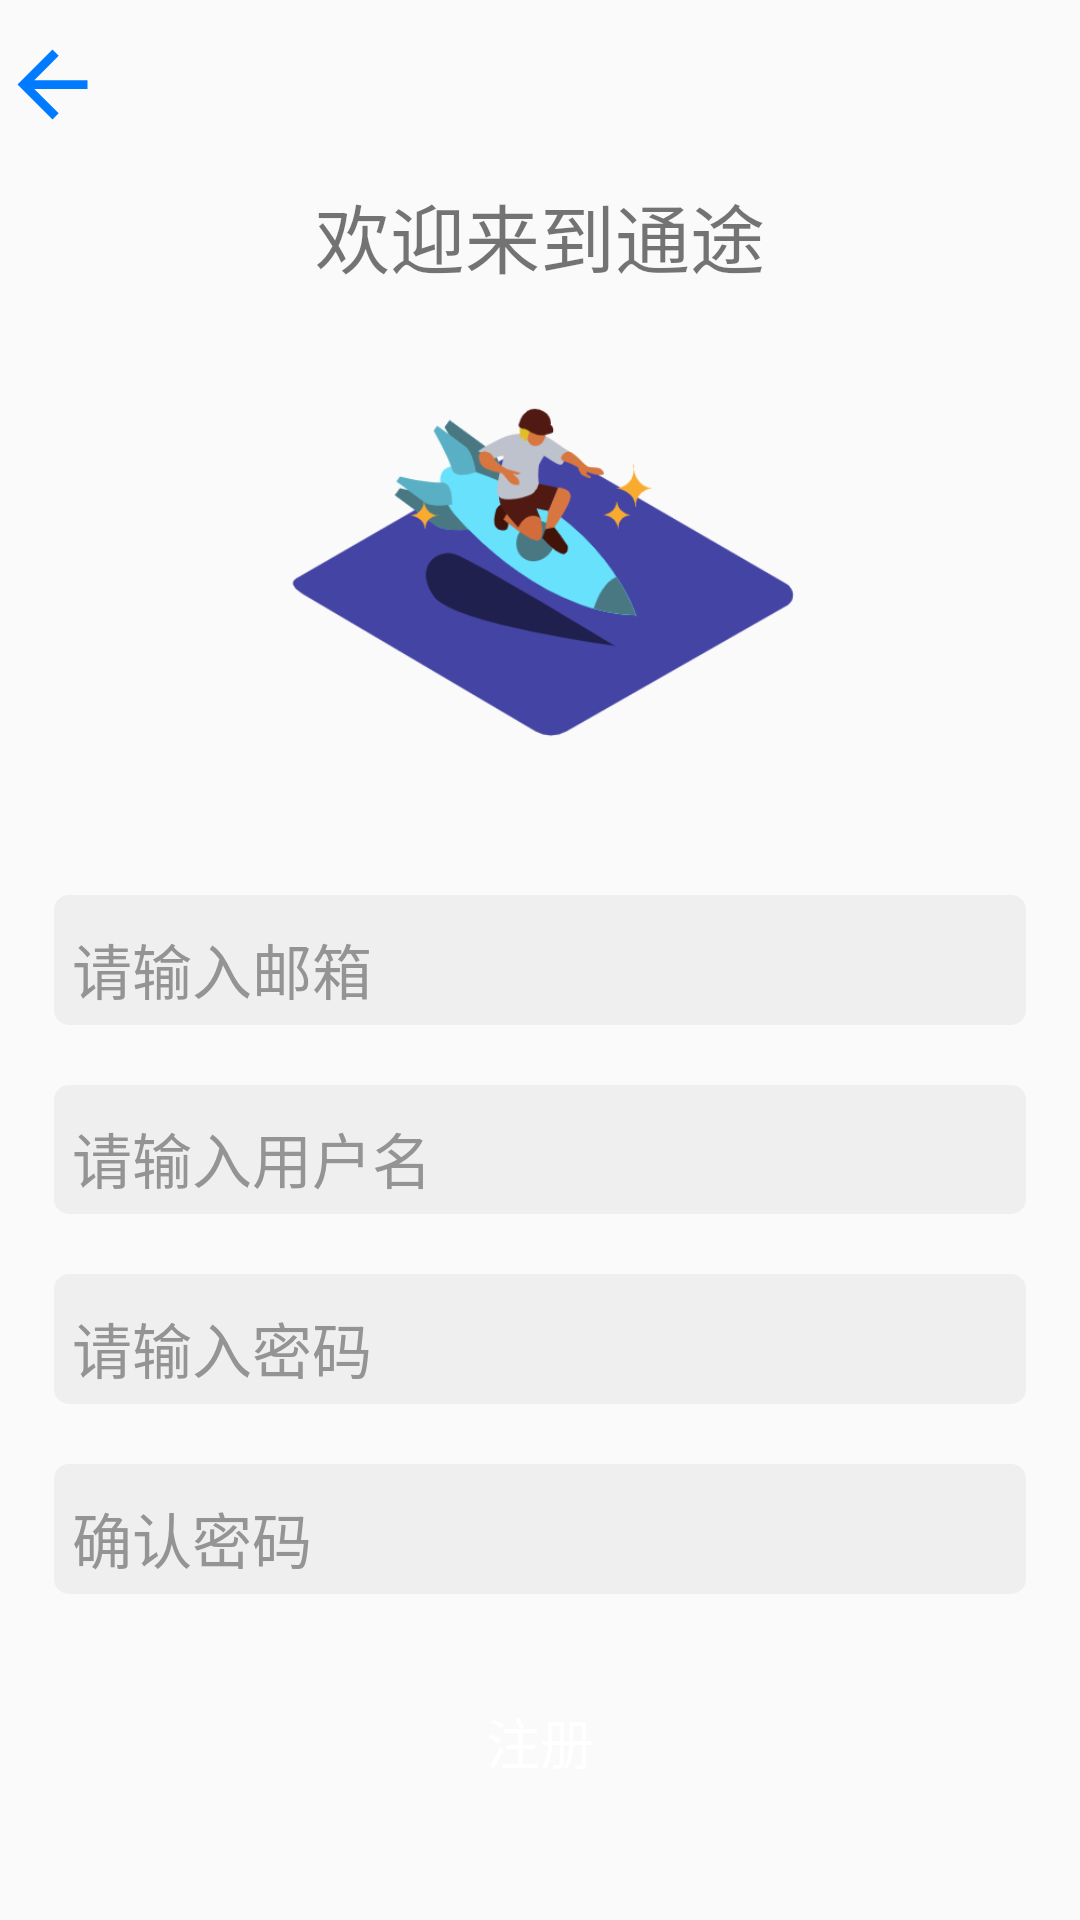

Locate icon controls on the screen. Image size 1080x1920, boxes as [left=x1, top=y1, right=x2, bottom=y2].
arrow back: [left=17, top=49, right=88, bottom=120]
